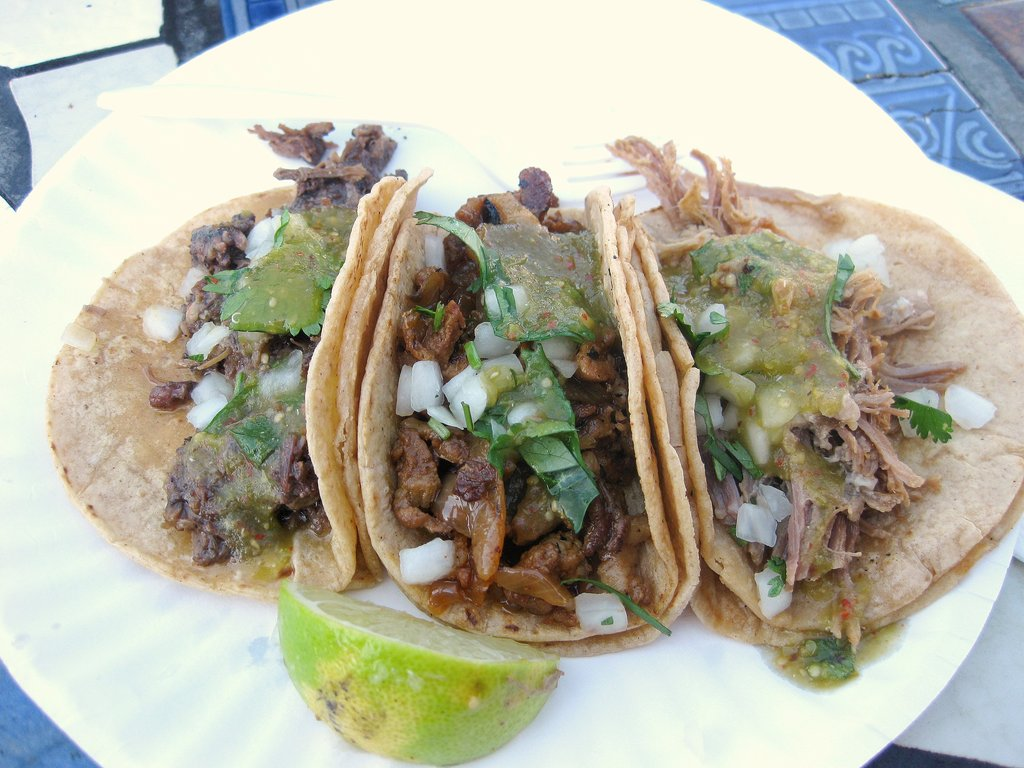taco: (602, 167, 1023, 653), (354, 182, 695, 660), (47, 171, 400, 607)
